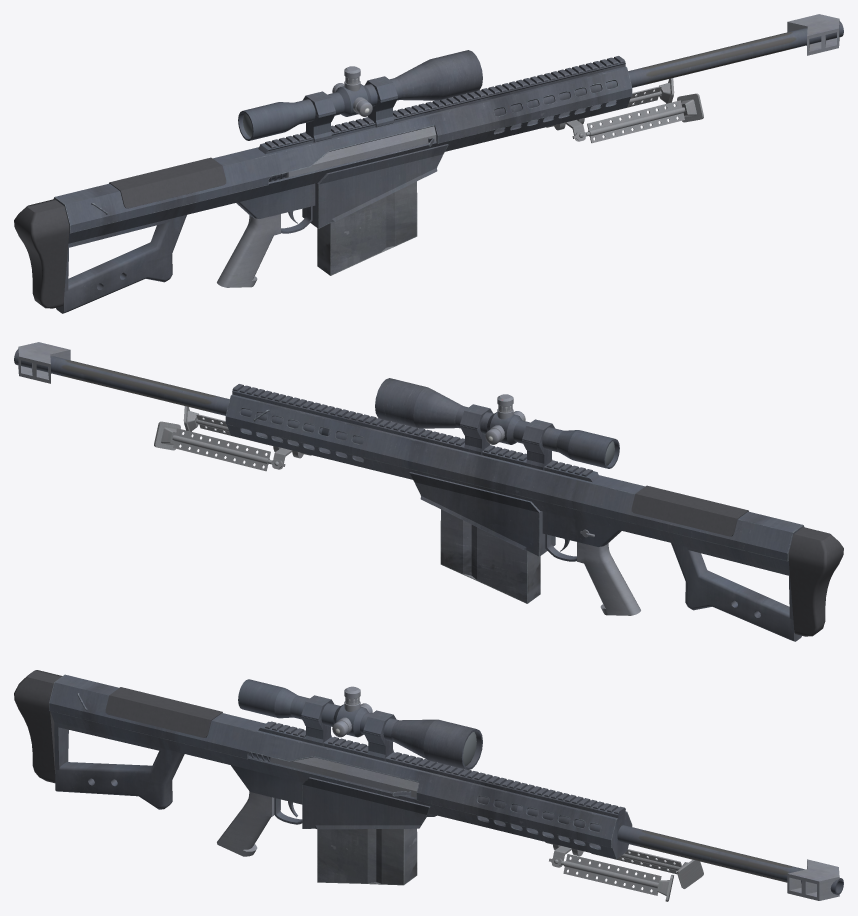
3 views of the same model, one above another, from view 1: azimuth 30°, elevation 25°; view 2: azimuth 150°, elevation 25°; view 3: azimuth 330°, elevation 25° (orthographic).
Visible parts, largest first — view 1: body_low, telescope_low, magazine_low, magazine_carrier_low, rear_grip_low, shoulder_pad_low, barrel_low, body_pad_low, grip_low, bolt_cover_low, rail_low, bipod_plate_low (+6 smaller); view 2: body_low, telescope_low, magazine_low, magazine_carrier_low, rear_grip_low, shoulder_pad_low, barrel_low, body_pad_low, grip_low, rail_low, bipod_plate_low, safety_body_low (+5 smaller); view 3: body_low, telescope_low, magazine_low, rear_grip_low, magazine_carrier_low, barrel_low, body_pad_low, shoulder_pad_low, grip_low, bipod_plate_low, bolt_cover_low, rail_low (+8 smaller).
Boxes of the visible parts, bbox=[...] form: body_low: bbox=[53, 66, 632, 243]; telescope_low: bbox=[238, 50, 482, 140]; magazine_low: bbox=[317, 181, 417, 275]; magazine_carrier_low: bbox=[302, 144, 448, 228]; rear_grip_low: bbox=[56, 215, 186, 313]; shoulder_pad_low: bbox=[14, 199, 69, 308]; barrel_low: bbox=[434, 21, 843, 141]; body_pad_low: bbox=[109, 157, 226, 208]; grip_low: bbox=[217, 214, 280, 287]; bolt_cover_low: bbox=[285, 126, 436, 177]; rail_low: bbox=[258, 58, 625, 154]; bipod_plate_low: bbox=[585, 86, 684, 143]; body_low: bbox=[225, 394, 804, 571]; telescope_low: bbox=[375, 378, 619, 468]; magazine_low: bbox=[440, 509, 540, 603]; magazine_carrier_low: bbox=[409, 472, 555, 556]; rear_grip_low: bbox=[671, 543, 801, 641]; shoulder_pad_low: bbox=[788, 527, 843, 636]; barrel_low: bbox=[14, 349, 364, 444]; body_pad_low: bbox=[631, 485, 748, 536]; grip_low: bbox=[577, 542, 640, 615]; rail_low: bbox=[232, 386, 599, 482]; bipod_plate_low: bbox=[173, 414, 272, 471]; safety_body_low: bbox=[542, 511, 621, 546]; body_low: bbox=[49, 674, 632, 859]; telescope_low: bbox=[238, 679, 482, 770]; magazine_low: bbox=[317, 828, 417, 885]; rear_grip_low: bbox=[54, 722, 184, 809]; magazine_carrier_low: bbox=[302, 777, 436, 829]; barrel_low: bbox=[477, 796, 843, 894]; body_pad_low: bbox=[105, 687, 222, 737]; shoulder_pad_low: bbox=[14, 670, 62, 783]; grip_low: bbox=[217, 791, 280, 856]; bipod_plate_low: bbox=[563, 849, 681, 895]; bolt_cover_low: bbox=[270, 757, 418, 797]; rail_low: bbox=[258, 721, 625, 818].
Bounding box in the file's own units: 234 × 53.59 × 18.37.
Materials: 3 (3 with a texture image).
